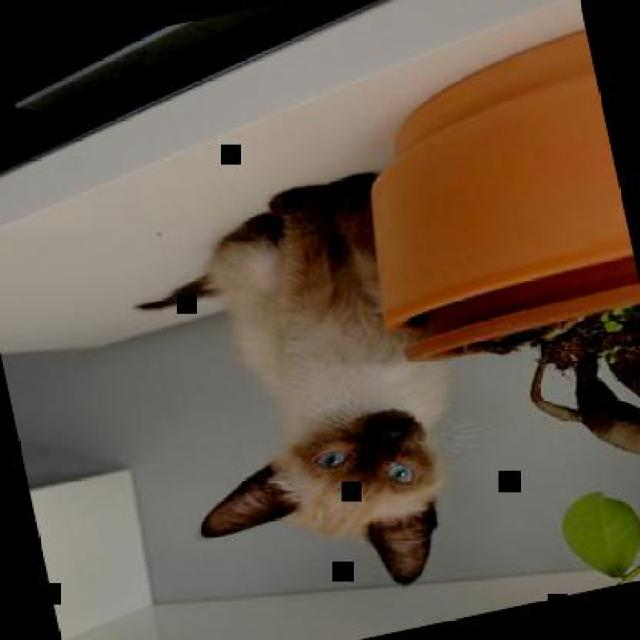cat: (123, 162, 494, 627)
